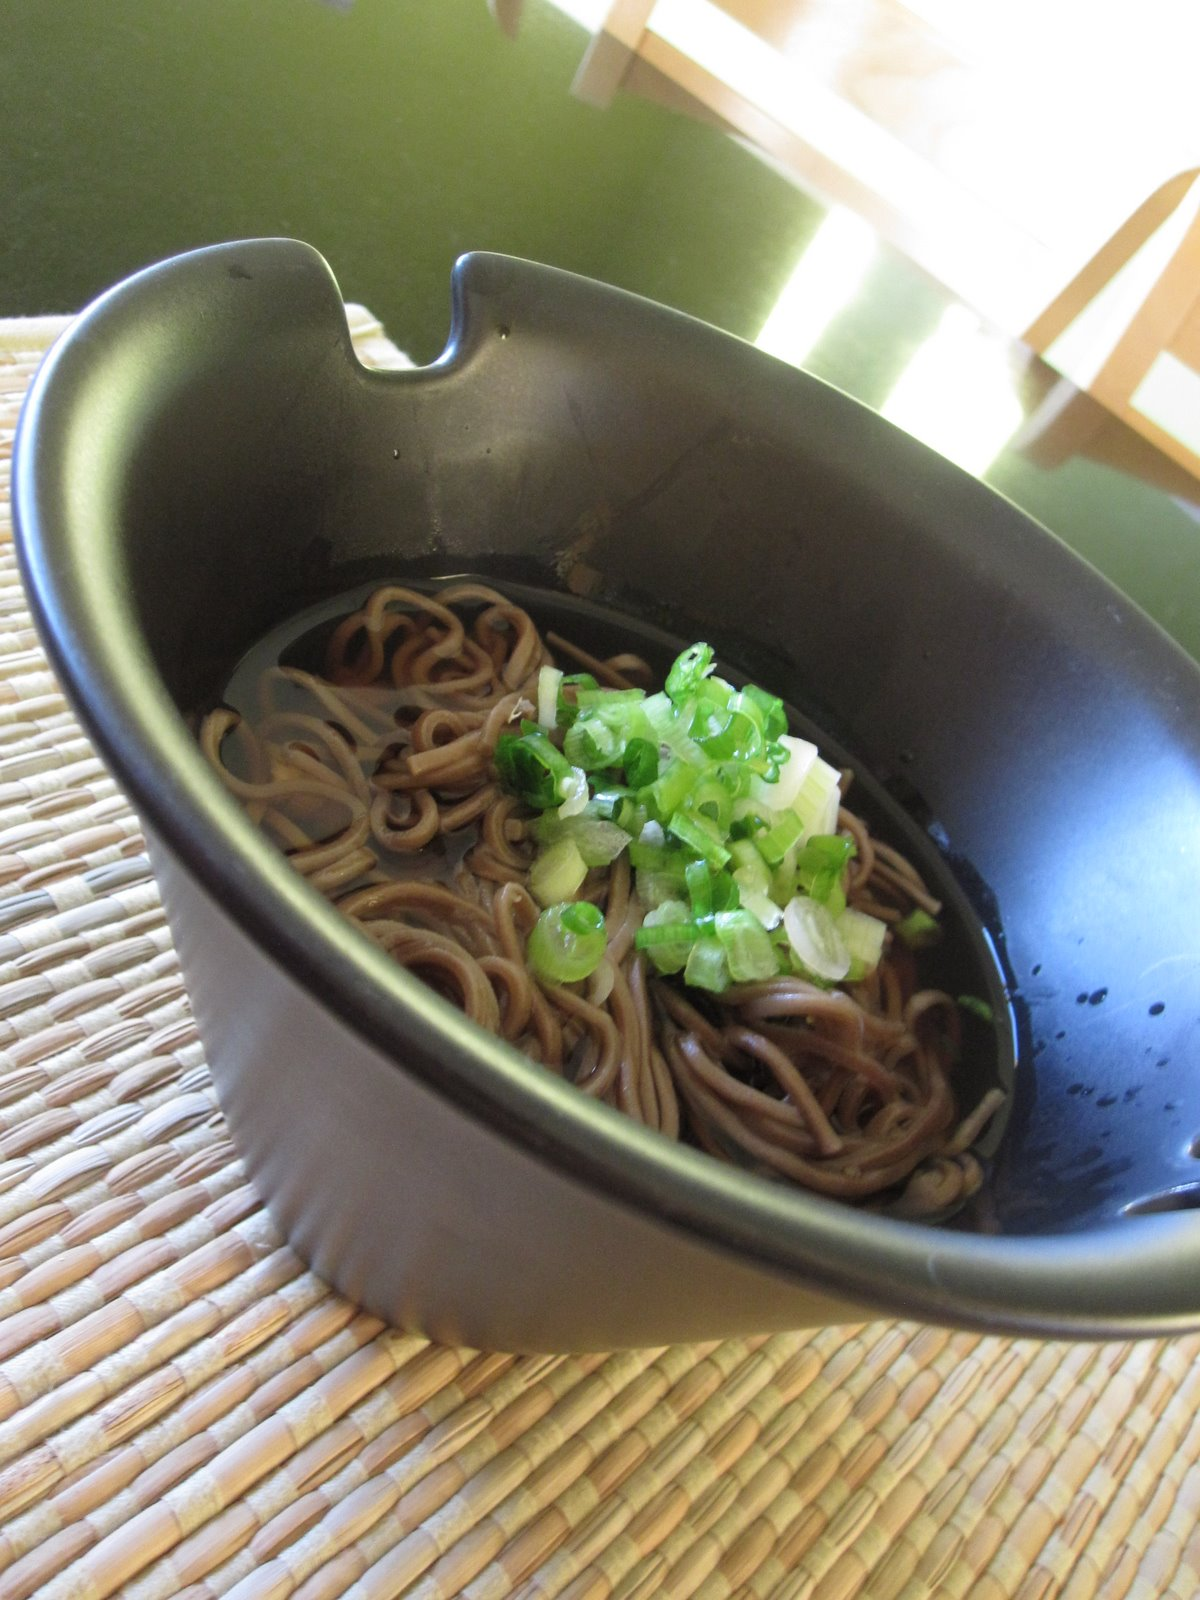Soba: (258, 559, 1049, 1257)
